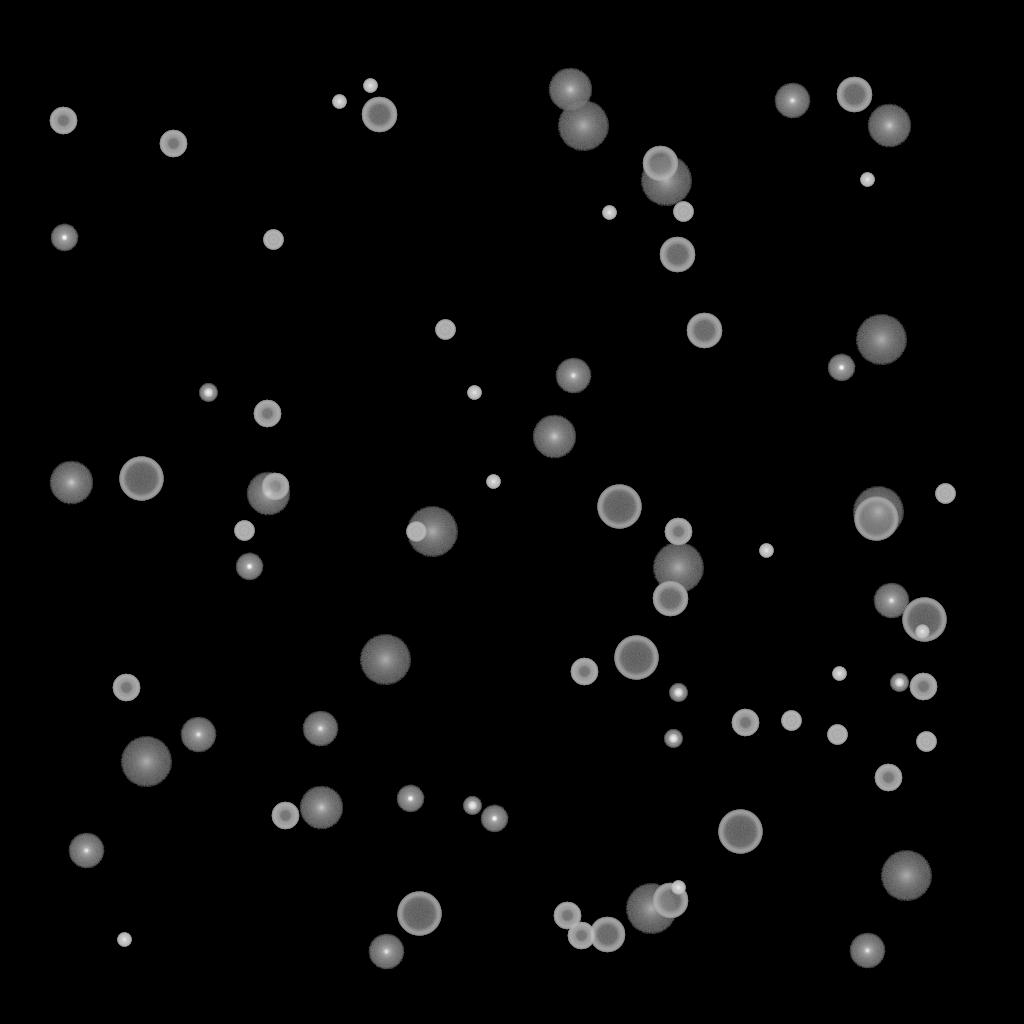depth:-10: (50, 224, 78, 252), (480, 805, 508, 833), (827, 354, 855, 382), (396, 785, 424, 813), (235, 553, 263, 581)
depth:-20: (890, 674, 908, 692), (463, 797, 481, 815), (669, 684, 687, 702), (199, 384, 217, 402), (664, 730, 682, 748)
depth:-30: (602, 206, 616, 220), (363, 79, 377, 93), (832, 667, 846, 681), (117, 933, 131, 947), (860, 173, 874, 187), (332, 95, 346, 109), (671, 881, 685, 895), (486, 475, 500, 489), (467, 386, 481, 400), (759, 544, 773, 558), (915, 625, 929, 639)
depth:-40: (263, 230, 283, 250), (673, 202, 693, 222), (781, 711, 801, 731), (435, 320, 455, 340), (234, 521, 254, 541), (827, 725, 847, 745), (406, 522, 426, 542), (935, 484, 955, 504), (916, 732, 936, 752)
depth:-50: (731, 709, 759, 737), (664, 518, 692, 546), (112, 674, 140, 702), (909, 673, 937, 701), (553, 902, 581, 930), (253, 400, 281, 428), (567, 922, 595, 950), (271, 802, 299, 830), (874, 764, 902, 792), (159, 130, 187, 158), (49, 107, 77, 135), (261, 473, 289, 501), (570, 658, 598, 686)
depth:-60: (642, 146, 678, 182), (589, 917, 625, 953), (686, 313, 722, 349), (361, 97, 397, 133), (836, 77, 872, 113), (652, 883, 688, 919), (652, 581, 688, 617), (659, 237, 695, 273)
depth:-70: (718, 810, 762, 854), (902, 598, 946, 642), (614, 636, 658, 680), (397, 892, 441, 936), (854, 497, 898, 541), (597, 485, 641, 529), (119, 457, 163, 501)
depth:0: (873, 583, 909, 619), (302, 711, 338, 747), (849, 933, 885, 969), (368, 934, 404, 970), (180, 717, 216, 753), (774, 83, 810, 119), (555, 358, 591, 394), (68, 833, 104, 869)
depth:10: (299, 786, 343, 830), (246, 472, 290, 516), (532, 415, 576, 459), (49, 461, 93, 505), (548, 68, 592, 112), (867, 104, 911, 148)
depth:20: (652, 543, 704, 593), (855, 315, 907, 365), (852, 487, 904, 537), (640, 156, 692, 206), (880, 851, 932, 901), (625, 884, 677, 934), (557, 101, 609, 151), (120, 737, 172, 787), (359, 635, 411, 685), (406, 507, 458, 557)
